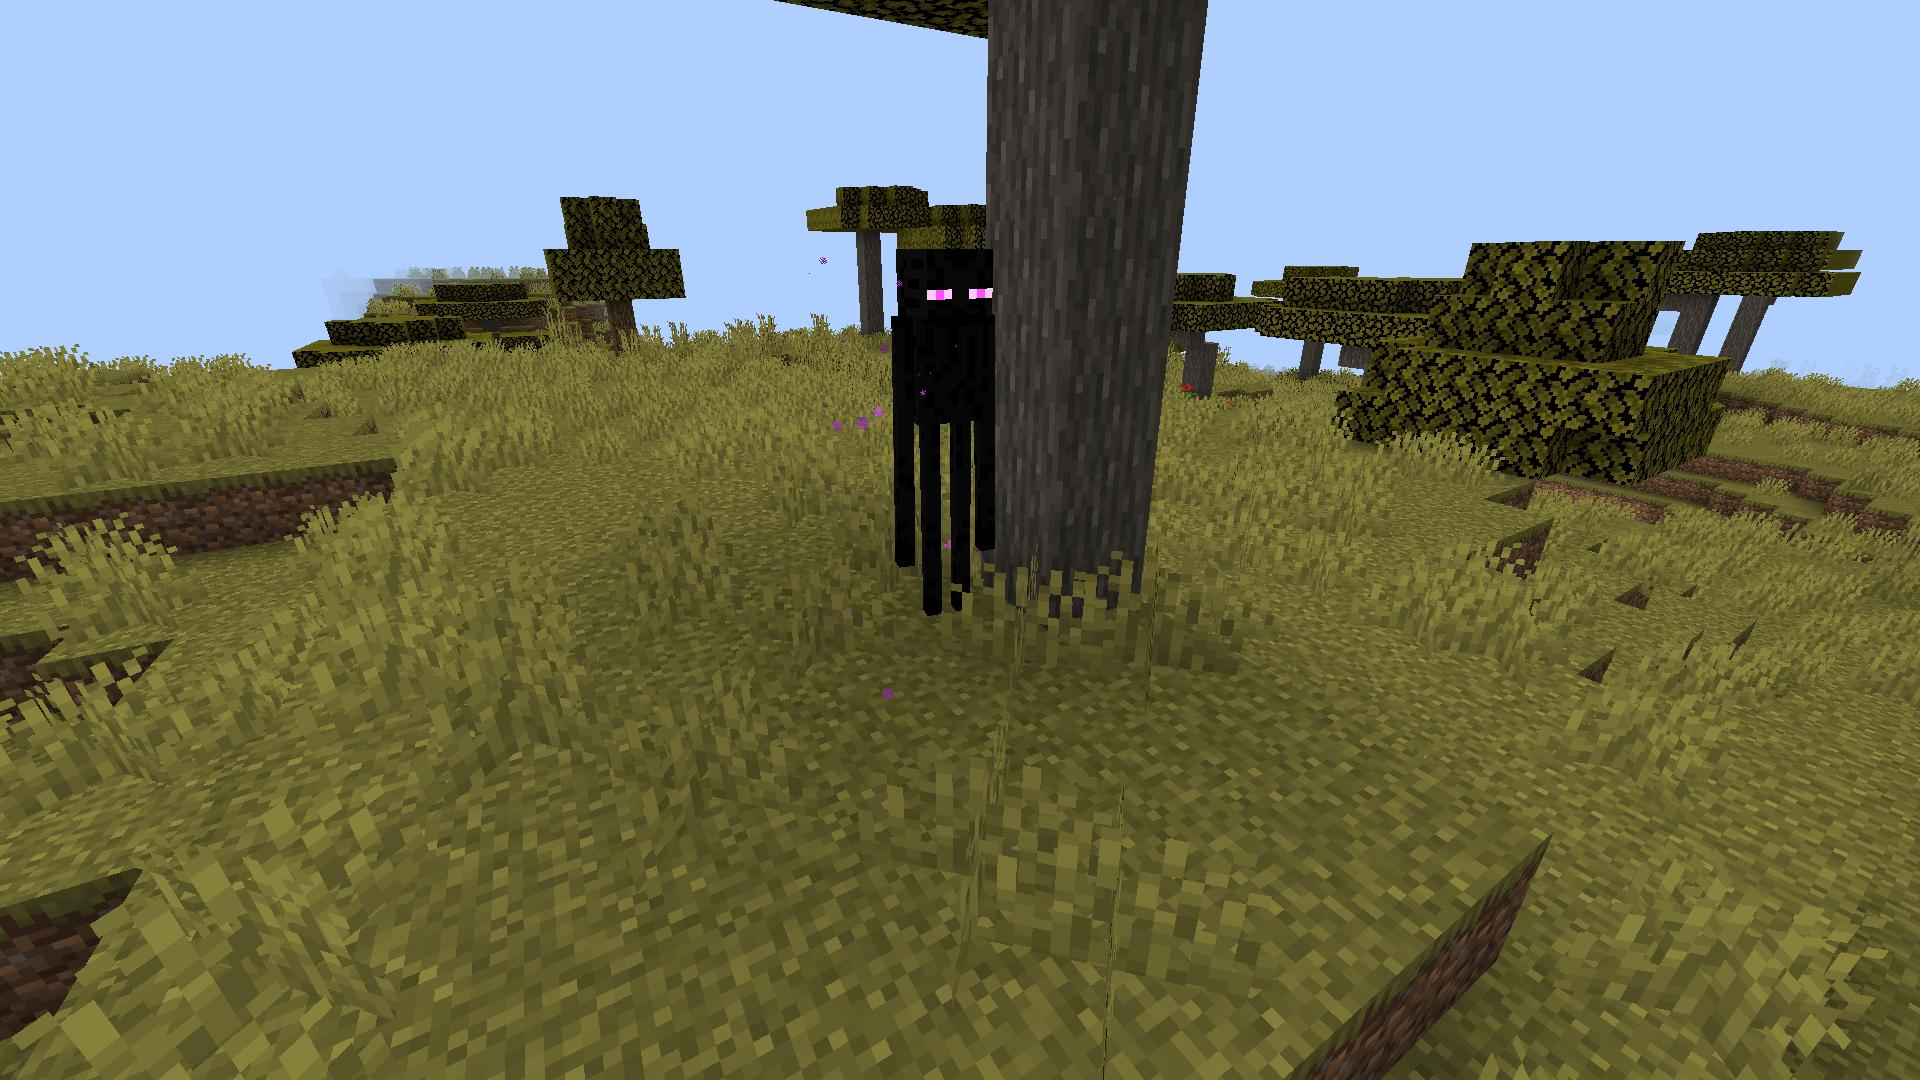enderman: (889, 243, 1014, 636)
